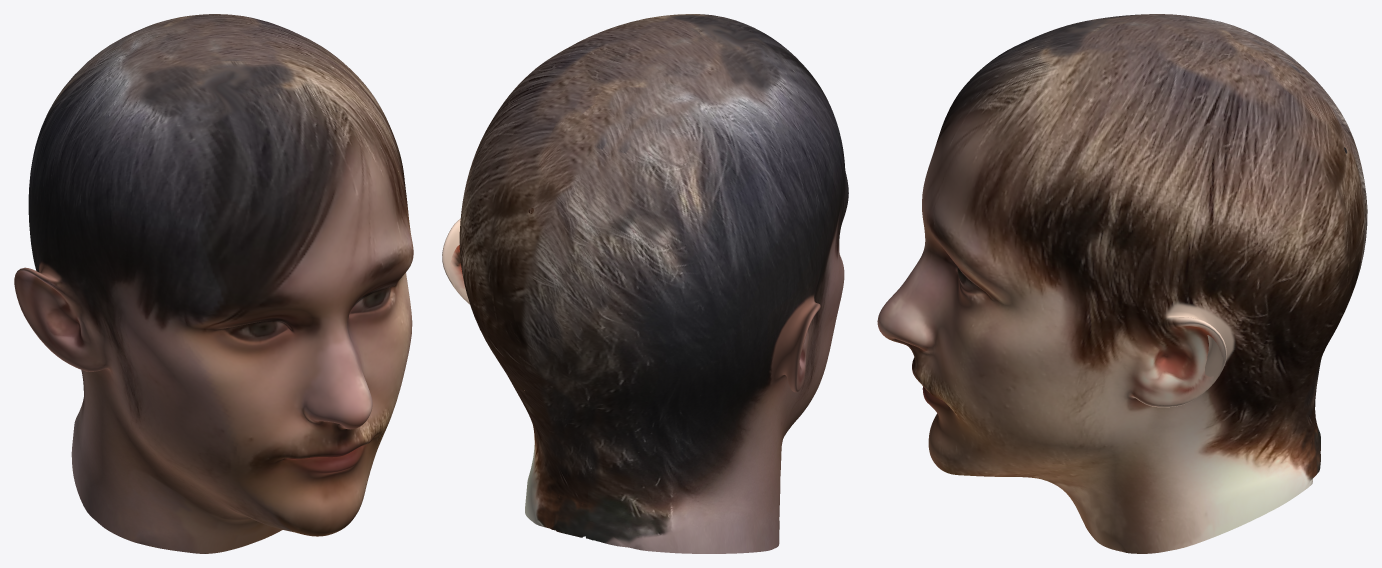
Rendered from Austin.fbx.
The picture shows the model from 3 angles, left to right: view 1: azimuth 30°, elevation 25°; view 2: azimuth 150°, elevation 25°; view 3: azimuth 270°, elevation 25°; orthographic projection. The views are drawn at different scales.
Parts seen in each view (by area): view 1: FaceBuilderHead; view 2: FaceBuilderHead; view 3: FaceBuilderHead.
Boxes of the visible parts, bbox=[...] form: FaceBuilderHead: bbox=[14, 14, 413, 553]; FaceBuilderHead: bbox=[442, 14, 848, 553]; FaceBuilderHead: bbox=[877, 14, 1367, 553].
Size of the model in its own units: 158 by 207 by 187.
Materials: 1 (1 with a texture image).
